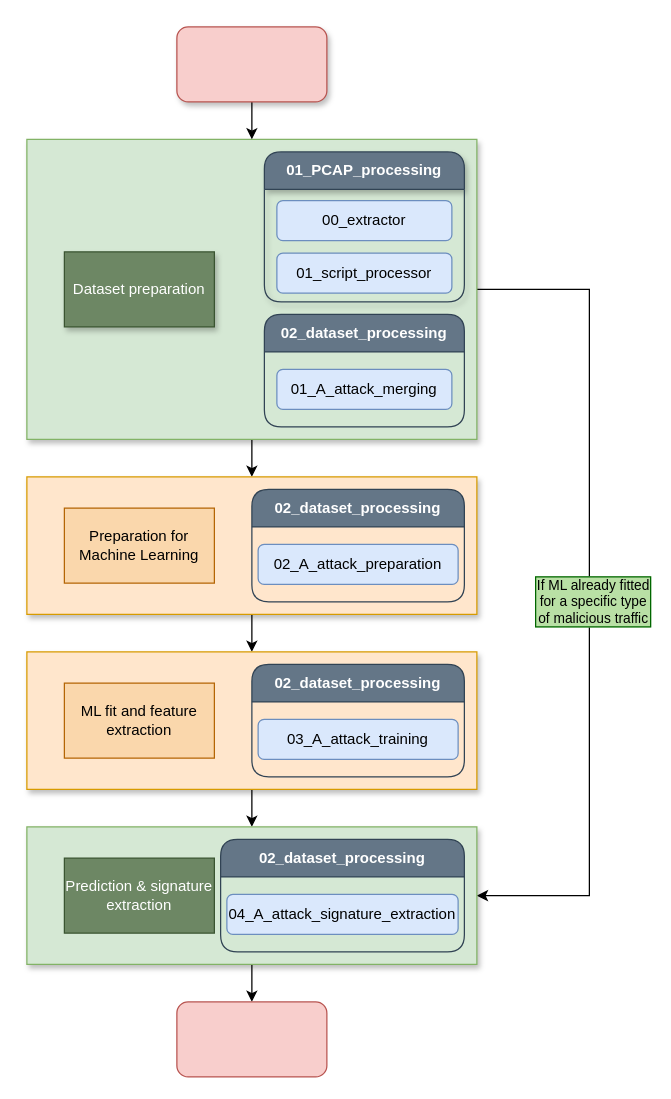
This 671x1099 diagram has some shape labels left out. Here are the shapes that lost their labels. From the top down, the centre of each, then its label:
the point at 252,66: Network Traffic Extraction
the point at 251,1039: Creation of a STIX signature - custom Network Traffic SCO
